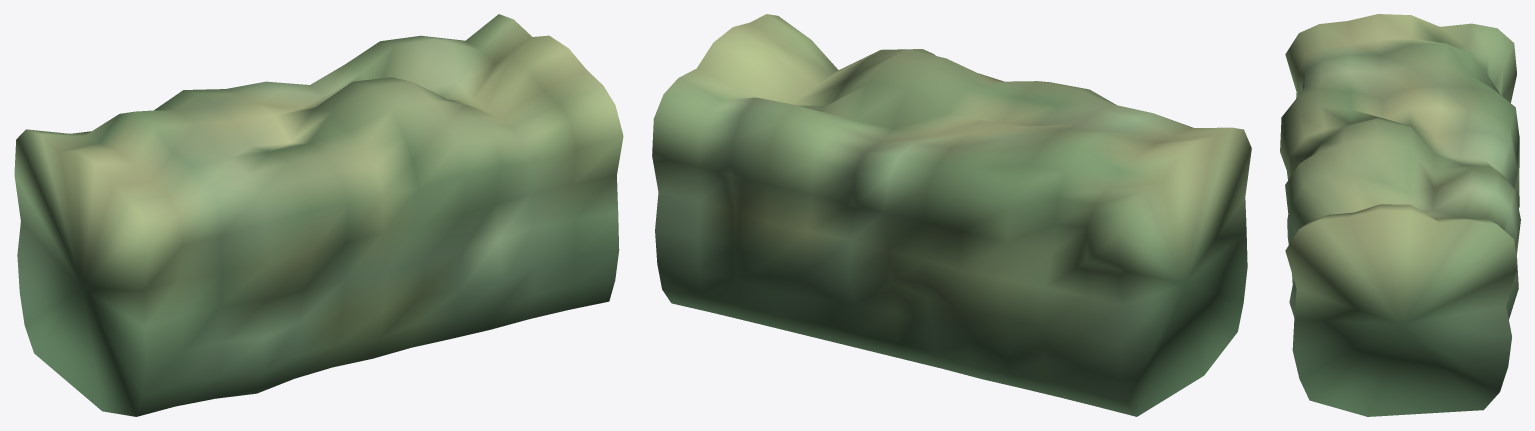
The model's file is hedge_1x.glb.
The picture shows the model from 3 angles, left to right: view 1: azimuth 30°, elevation 25°; view 2: azimuth 150°, elevation 25°; view 3: azimuth 270°, elevation 25°; orthographic projection. The views are drawn at different scales.
Visible parts, largest first — view 1: hedge_1x; view 2: hedge_1x; view 3: hedge_1x.
Boxes of the visible parts, <box> form: hedge_1x: <box>14,14,623,416</box>; hedge_1x: <box>652,14,1251,416</box>; hedge_1x: <box>1280,14,1520,416</box>.
Bounding box in the file's own units: 16 × 8.19 × 8.3.
